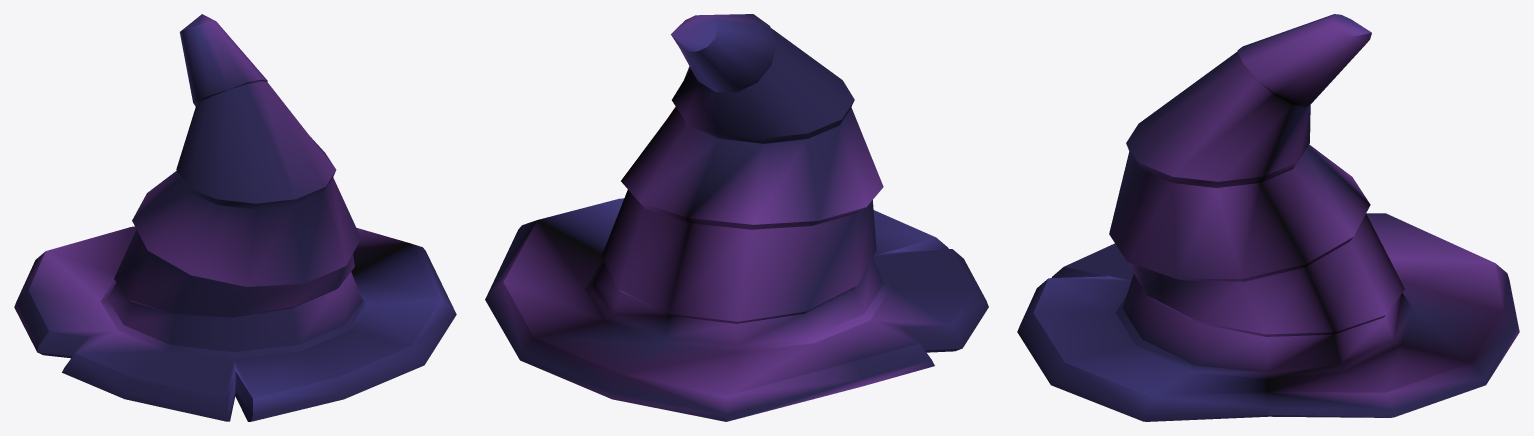
File: wicth.fbx
3 renders of one model, left to right at view 1: azimuth 30°, elevation 25°; view 2: azimuth 150°, elevation 25°; view 3: azimuth 270°, elevation 25°, orthographic. The views are drawn at different scales.
Parts seen in each view (by area): view 1: witch_hat; view 2: witch_hat; view 3: witch_hat.
Boxes of the visible parts, box(x1,y1,x2,y2) form: witch_hat: box(14, 14, 456, 421); witch_hat: box(485, 14, 988, 421); witch_hat: box(1017, 14, 1519, 421).
Bounding box in the file's own units: 3.99 × 4.04 × 2.89.
